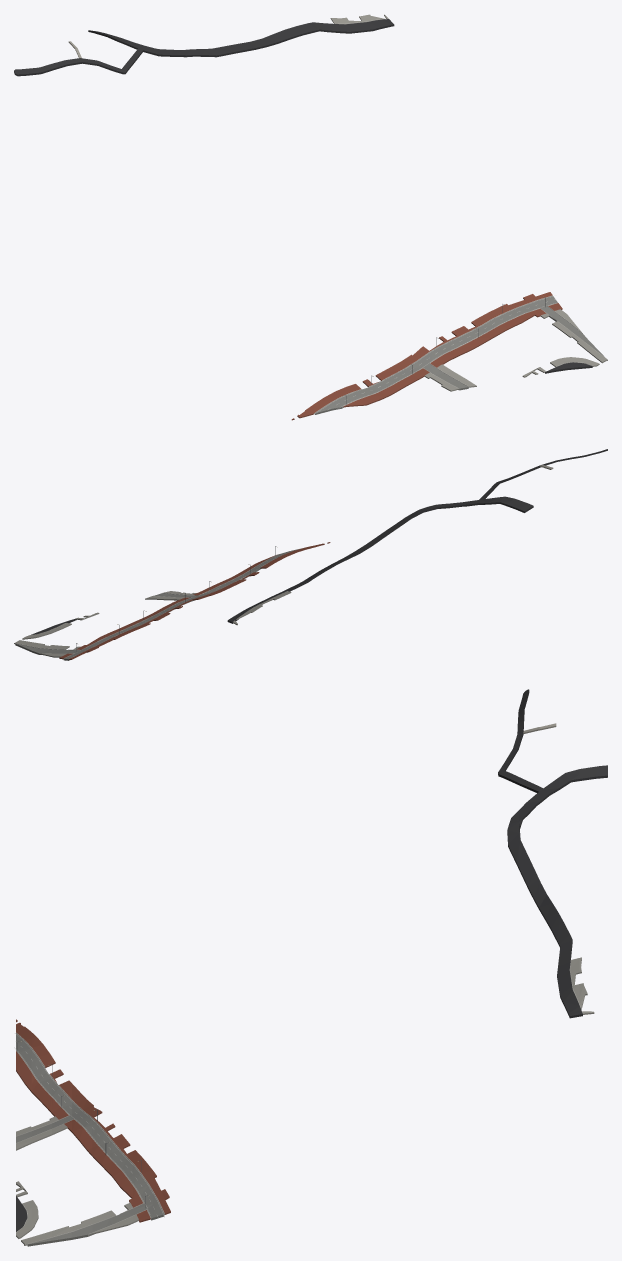
File: 17-109438-59458.1fdeea58.glb
The picture shows the model from 3 angles, top to bottom: view 1: azimuth 30°, elevation 25°; view 2: azimuth 210°, elevation 25°; view 3: azimuth 270°, elevation 25°; orthographic projection. The views are drawn at different scales.
Bounding box in the file's own units: 292 × 172 × 293.
